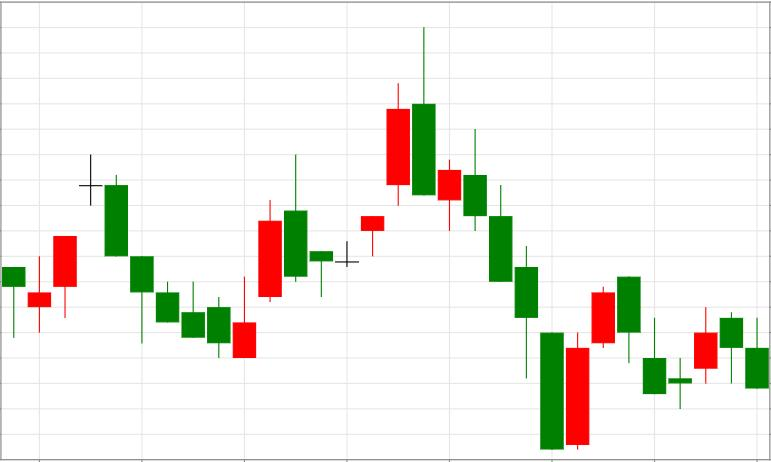inverse_hammer_rise: (79, 153, 257, 357)
